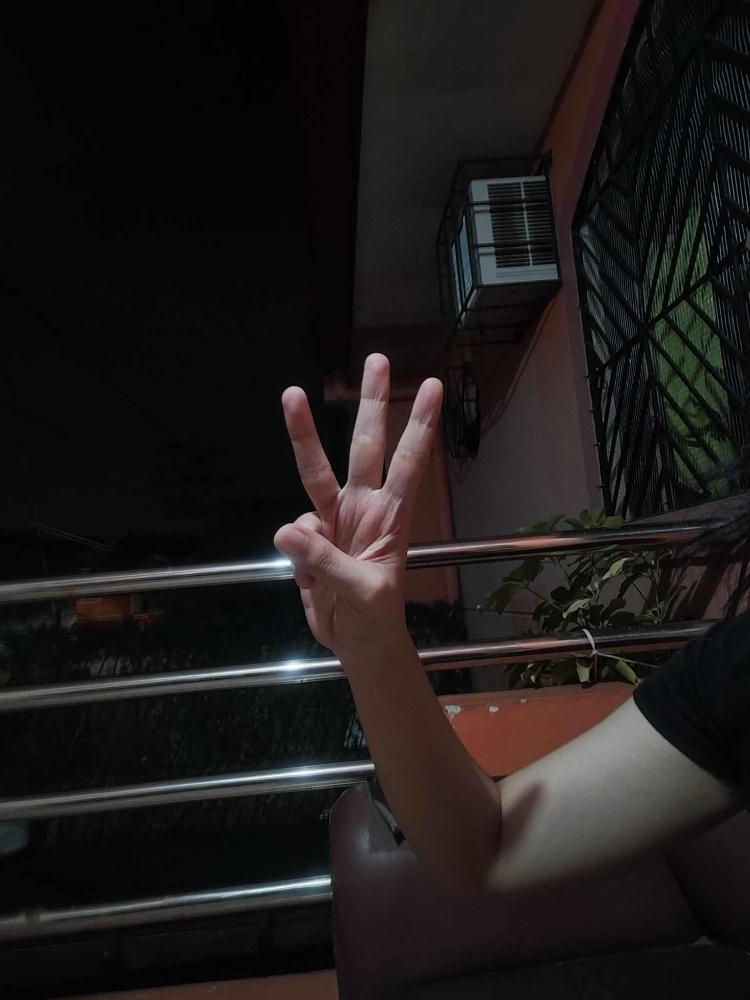w: (272, 351, 443, 649)
